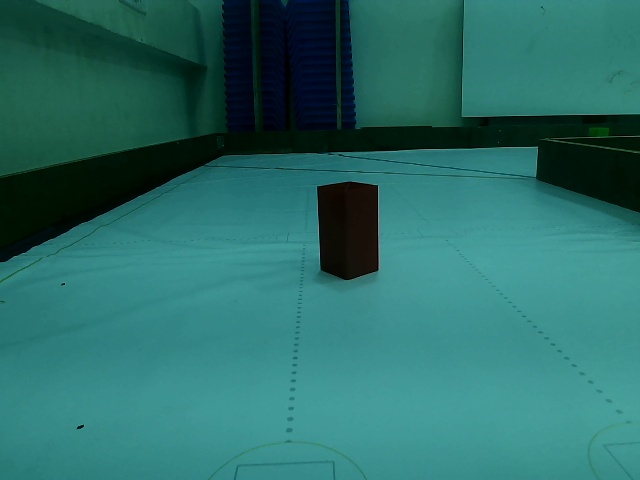red: (318, 183, 375, 273)
